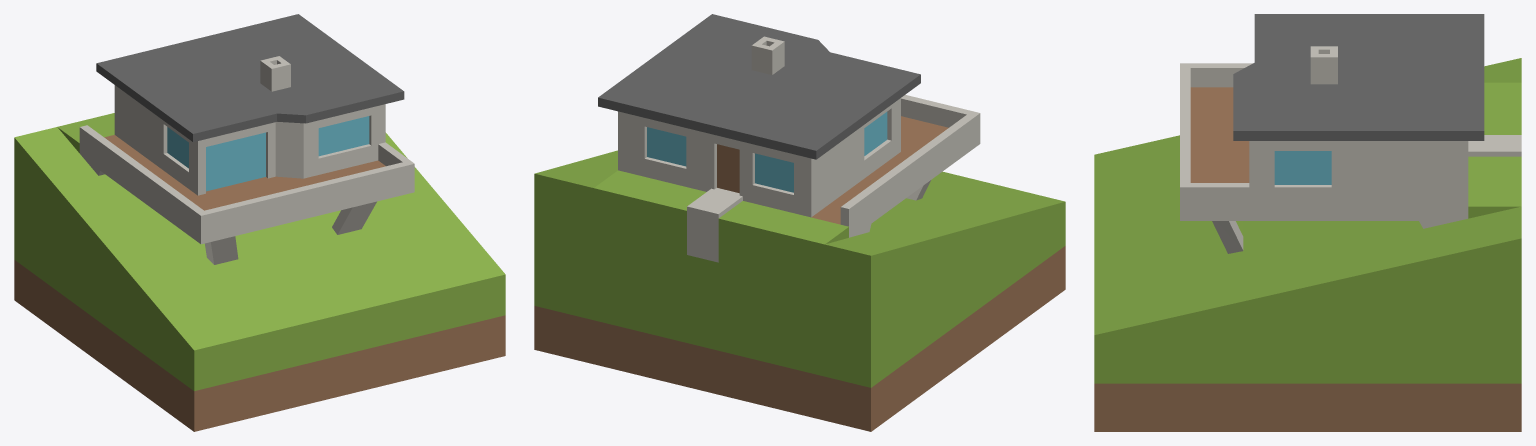
The model's file is house-hill-small.obj.
3 views of the same model, side by side, from view 1: azimuth 30°, elevation 25°; view 2: azimuth 150°, elevation 25°; view 3: azimuth 270°, elevation 25° (orthographic). The views are drawn at different scales.
Parts seen in each view (by area): view 1: house-hill-small_Cube.005; view 2: house-hill-small_Cube.005; view 3: house-hill-small_Cube.005.
Part boxes in pixels (<box>): house-hill-small_Cube.005: <box>14,14,505,431</box>; house-hill-small_Cube.005: <box>534,14,1065,431</box>; house-hill-small_Cube.005: <box>1094,14,1521,431</box>.
Bounding box in the file's own units: 8 × 6.26 × 8.
1 material, 1 textured.
